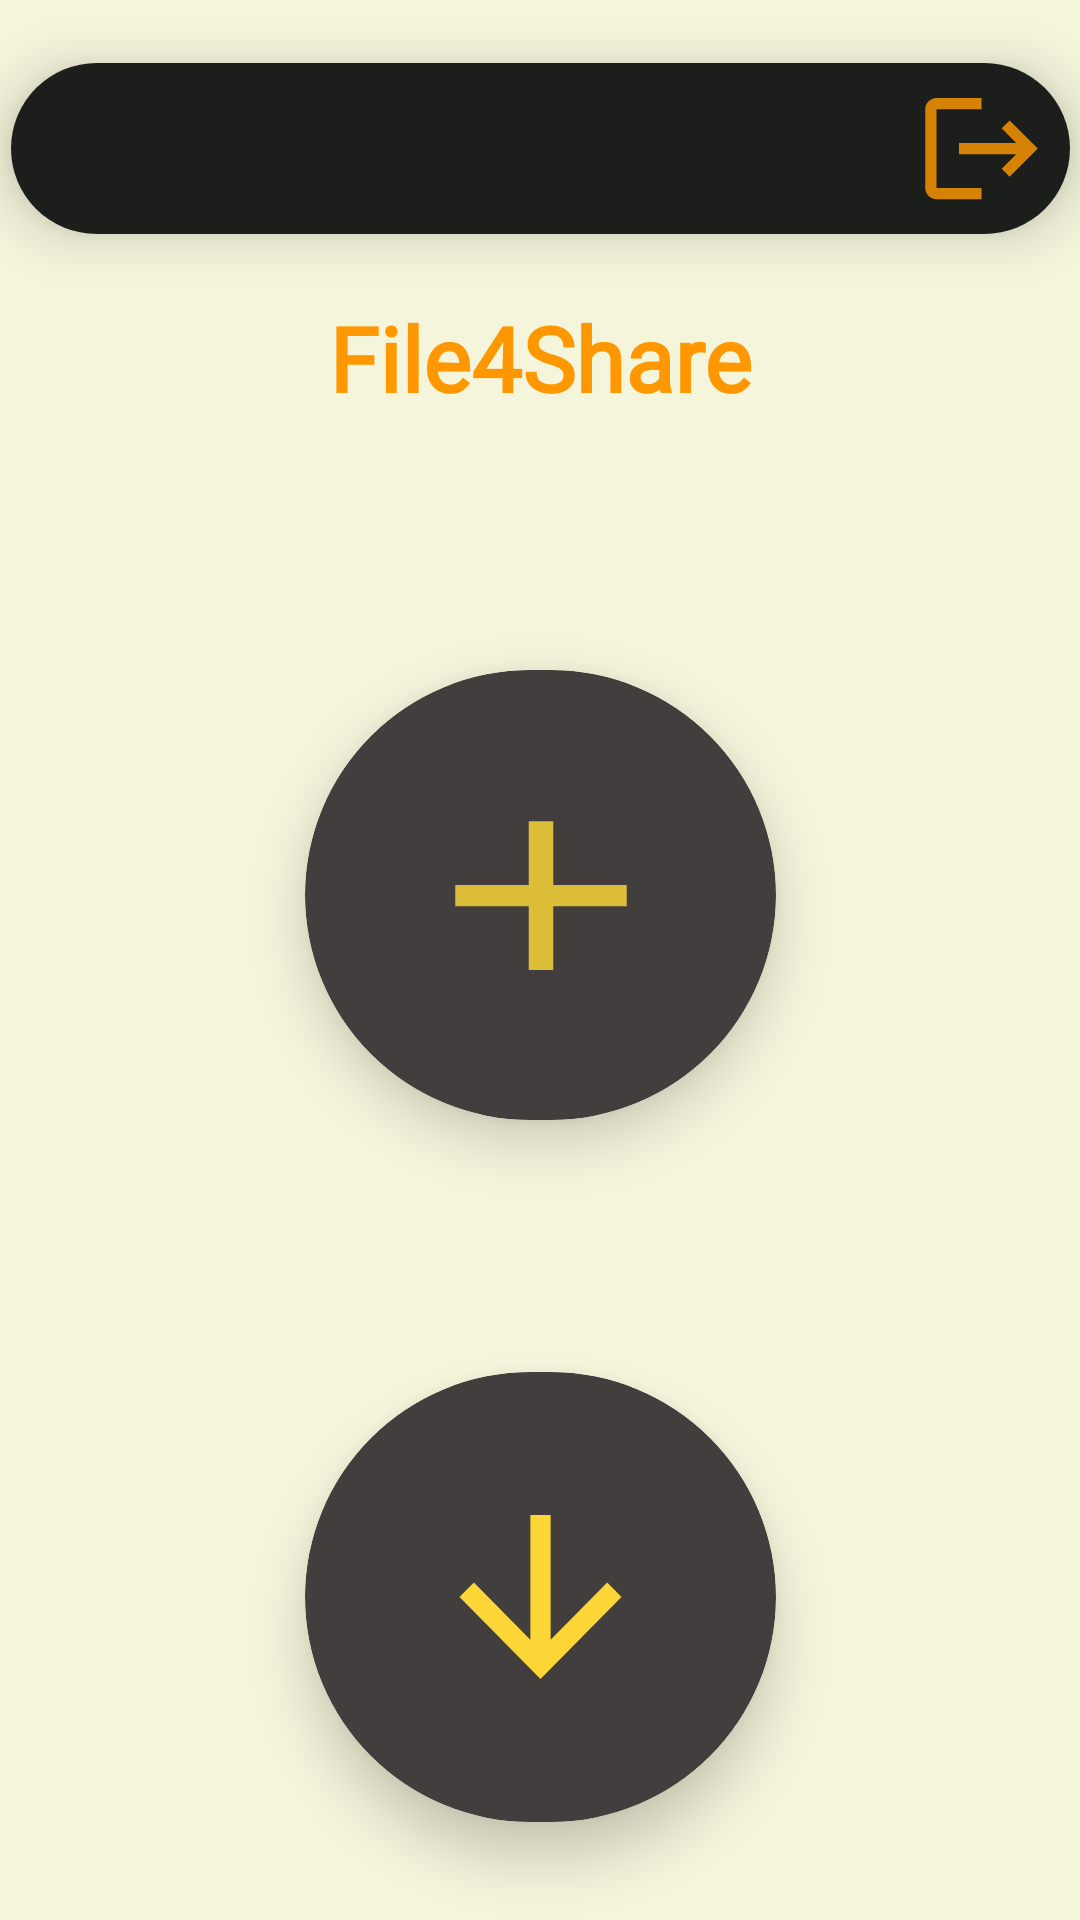

Icon bounding boxes for this 1080 x 1920 phone screenshot, format (x1, y1, x2, y2):
add: (455, 821, 627, 970)
arrow downward: (460, 1515, 621, 1679)
